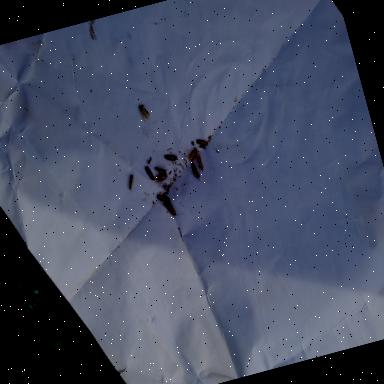pbw: (138, 102, 152, 124), (190, 161, 202, 183), (186, 147, 202, 163), (194, 152, 205, 172), (126, 174, 138, 192), (157, 193, 171, 206), (154, 172, 169, 184), (145, 164, 155, 182), (164, 152, 178, 163), (156, 164, 168, 176), (196, 137, 209, 148)
